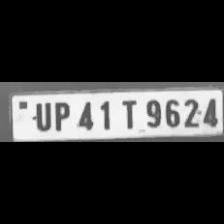1: (95, 98, 115, 130)
2: (180, 96, 200, 128)
4: (72, 98, 96, 130), (200, 95, 218, 127)
6: (162, 96, 180, 128)
9: (141, 96, 163, 128)
P: (50, 99, 72, 131)
T: (116, 97, 138, 129)
U: (29, 99, 52, 131)
